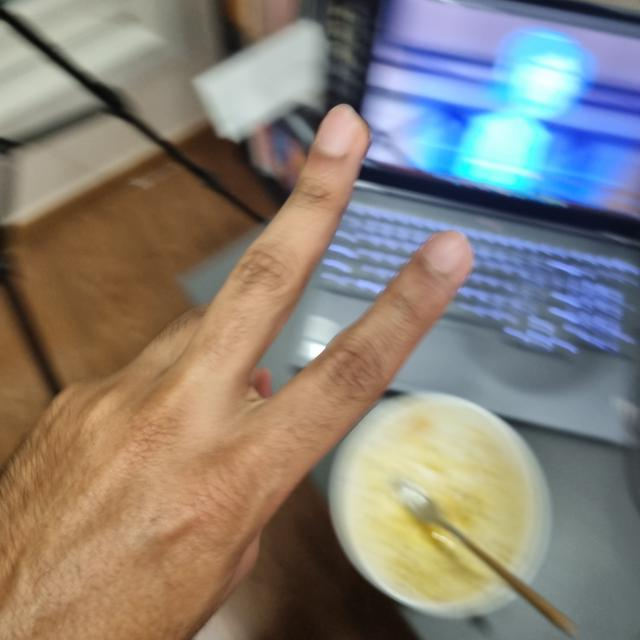Scissors: (0, 114, 470, 639)
